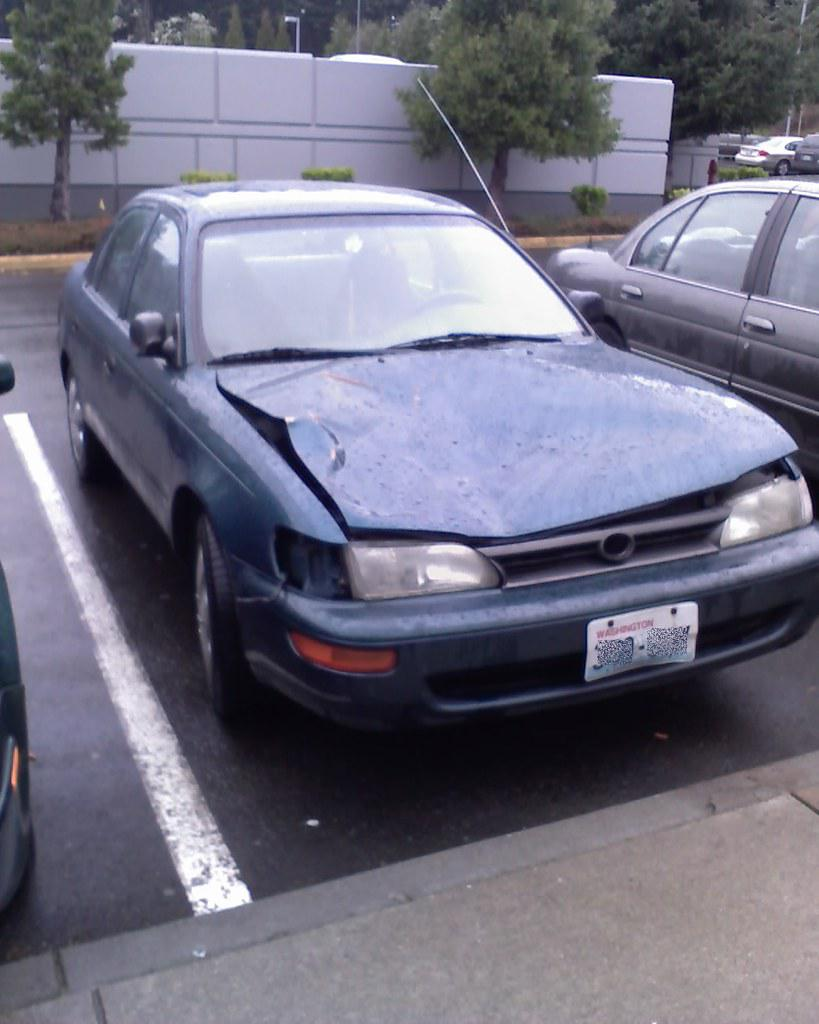bonnet-dent: (218, 343, 747, 520)
